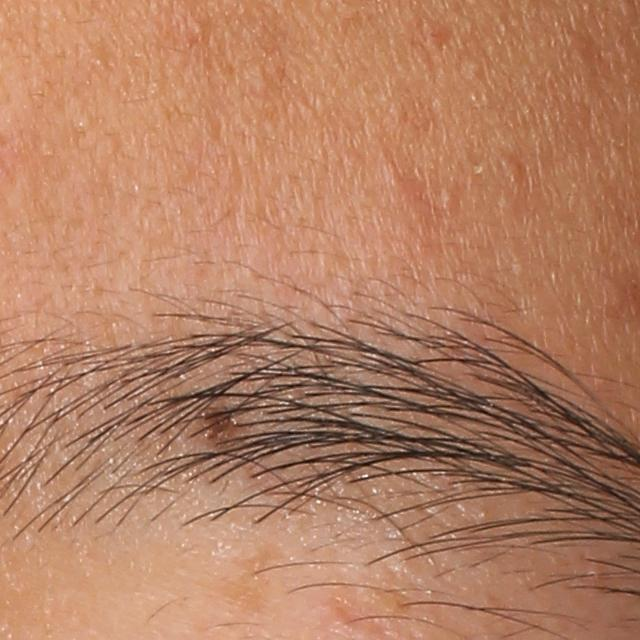comedo: (460, 58, 489, 80), (441, 186, 461, 213), (187, 13, 207, 39), (501, 159, 525, 180)
melasma: (216, 539, 291, 621)
